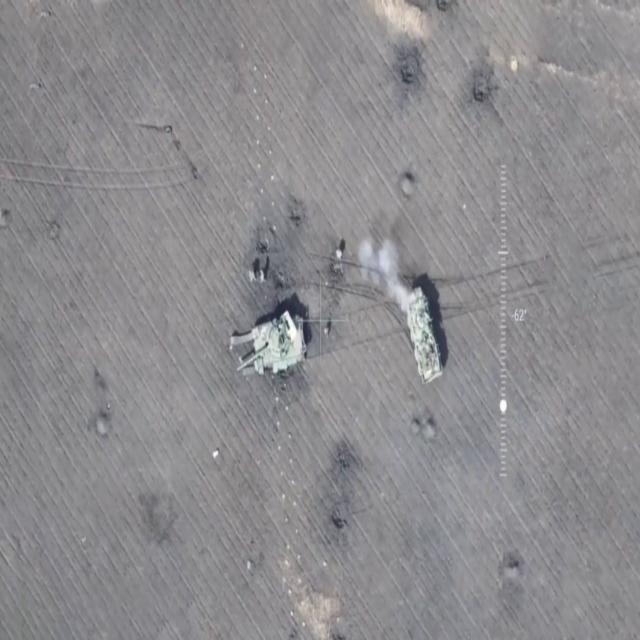APC: (405, 286, 446, 388)
MBT: (234, 313, 308, 383)
